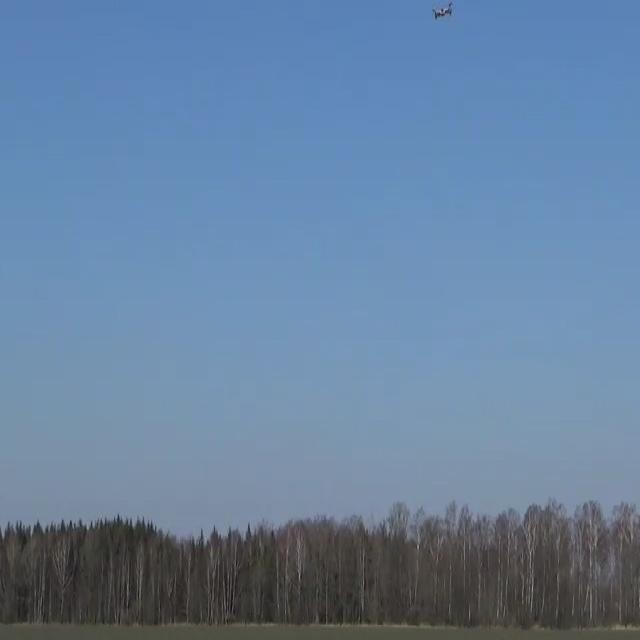drone: (431, 0, 453, 19)
